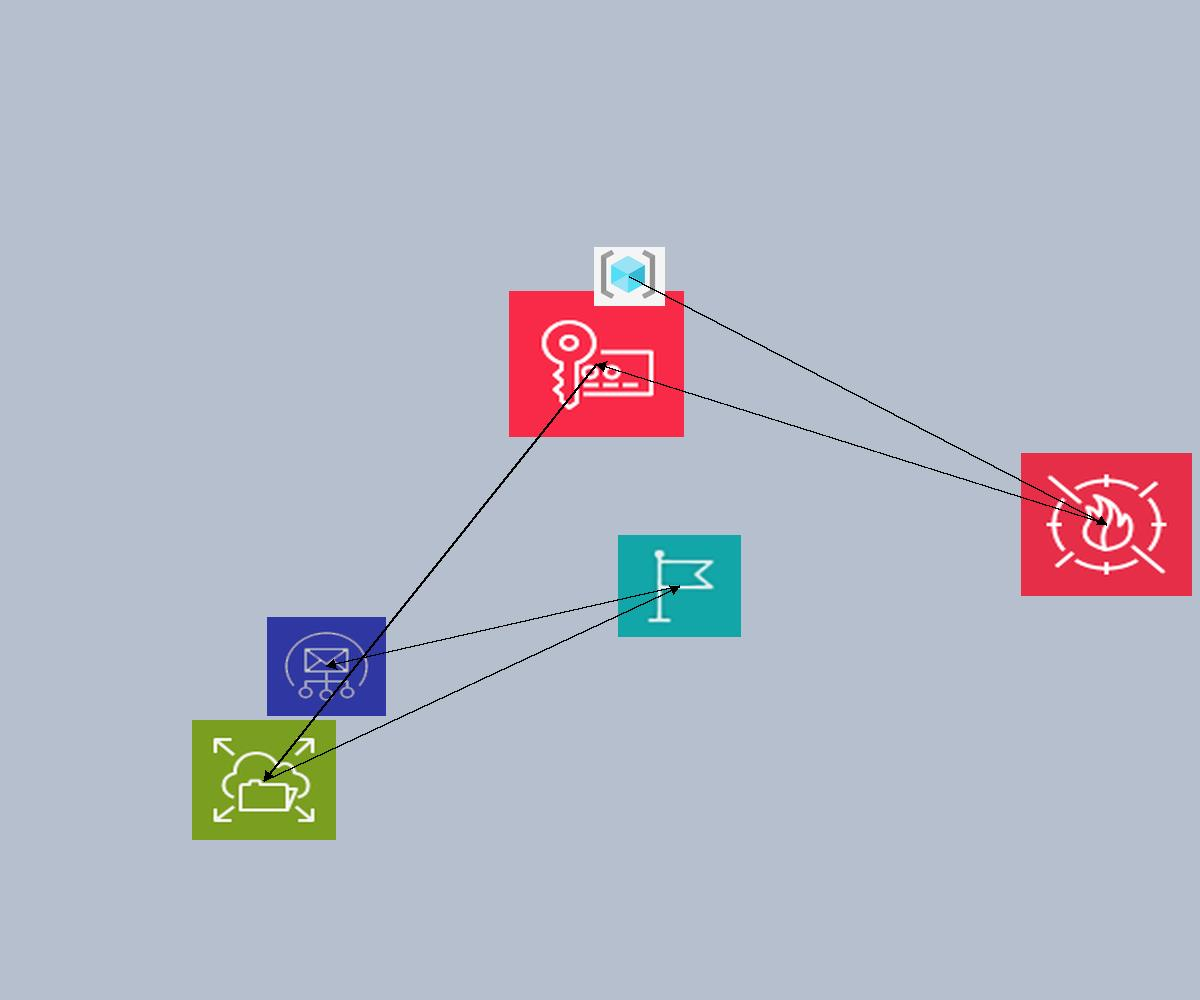AWS-EFS: (192, 720, 336, 840)
AWS-Key-Management-Service: (509, 291, 684, 437)
AWS-Region: (618, 535, 741, 637)
AWS-Simple-Email-Service: (267, 617, 386, 716)
AWS-WAF: (1021, 453, 1192, 596)
Azure_resource_group: (594, 247, 665, 306)
